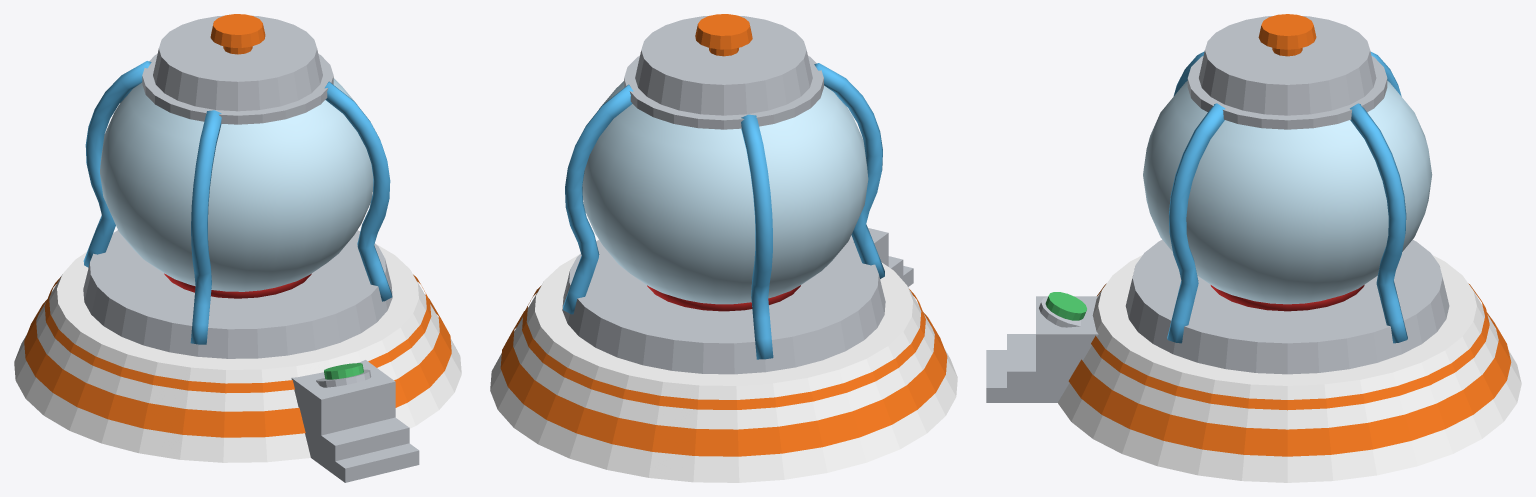
The model's file is incubateur.fbx.
The picture shows the model from 3 angles, left to right: view 1: azimuth 30°, elevation 25°; view 2: azimuth 150°, elevation 25°; view 3: azimuth 270°, elevation 25°; orthographic projection. The views are drawn at different scales.
Visible parts, largest first — view 1: incubateur_Gris, incubateur_Verre, incubateur_Blanc, incubateur_Orange, incubateur_Tubes, incubateur_Coussin, incubateur_Bouton; view 2: incubateur_Verre, incubateur_Gris, incubateur_Blanc, incubateur_Orange, incubateur_Tubes, incubateur_Coussin; view 3: incubateur_Gris, incubateur_Verre, incubateur_Blanc, incubateur_Orange, incubateur_Tubes, incubateur_Coussin, incubateur_Bouton.
Part boxes in pixels (x1=…): incubateur_Gris: x1=83, y1=15, x2=419, y2=482; incubateur_Verre: x1=100, y1=78, x2=373, y2=291; incubateur_Blanc: x1=14, y1=244, x2=461, y2=462; incubateur_Orange: x1=24, y1=14, x2=451, y2=437; incubateur_Tubes: x1=83, y1=61, x2=392, y2=344; incubateur_Coussin: x1=164, y1=273, x2=311, y2=298; incubateur_Bouton: x1=324, y1=363, x2=363, y2=379; incubateur_Verre: x1=582, y1=81, x2=868, y2=304; incubateur_Gris: x1=562, y1=15, x2=913, y2=374; incubateur_Blanc: x1=490, y1=254, x2=957, y2=482; incubateur_Orange: x1=500, y1=14, x2=947, y2=456; incubateur_Tubes: x1=563, y1=63, x2=884, y2=359; incubateur_Coussin: x1=647, y1=285, x2=800, y2=311; incubateur_Gris: x1=986, y1=16, x2=1449, y2=402; incubateur_Verre: x1=1143, y1=81, x2=1432, y2=304; incubateur_Blanc: x1=1058, y1=255, x2=1521, y2=482; incubateur_Orange: x1=1068, y1=14, x2=1511, y2=456; incubateur_Tubes: x1=1167, y1=51, x2=1407, y2=343; incubateur_Coussin: x1=1210, y1=285, x2=1364, y2=311; incubateur_Bouton: x1=1045, y1=292, x2=1086, y2=320.
Bounding box in the file's own units: 6.8 × 5.75 × 7.78.
